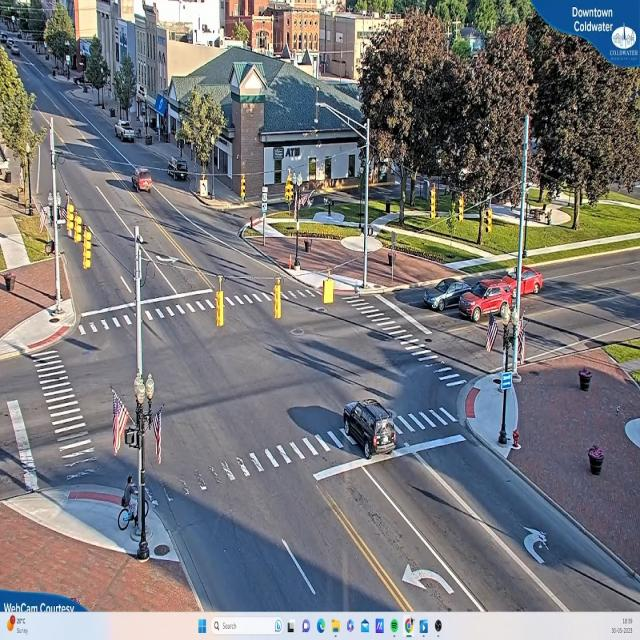car: (346, 399, 398, 456), (461, 276, 511, 322), (425, 277, 463, 315), (512, 260, 544, 300), (130, 168, 154, 192), (166, 158, 189, 180), (116, 124, 136, 142)
